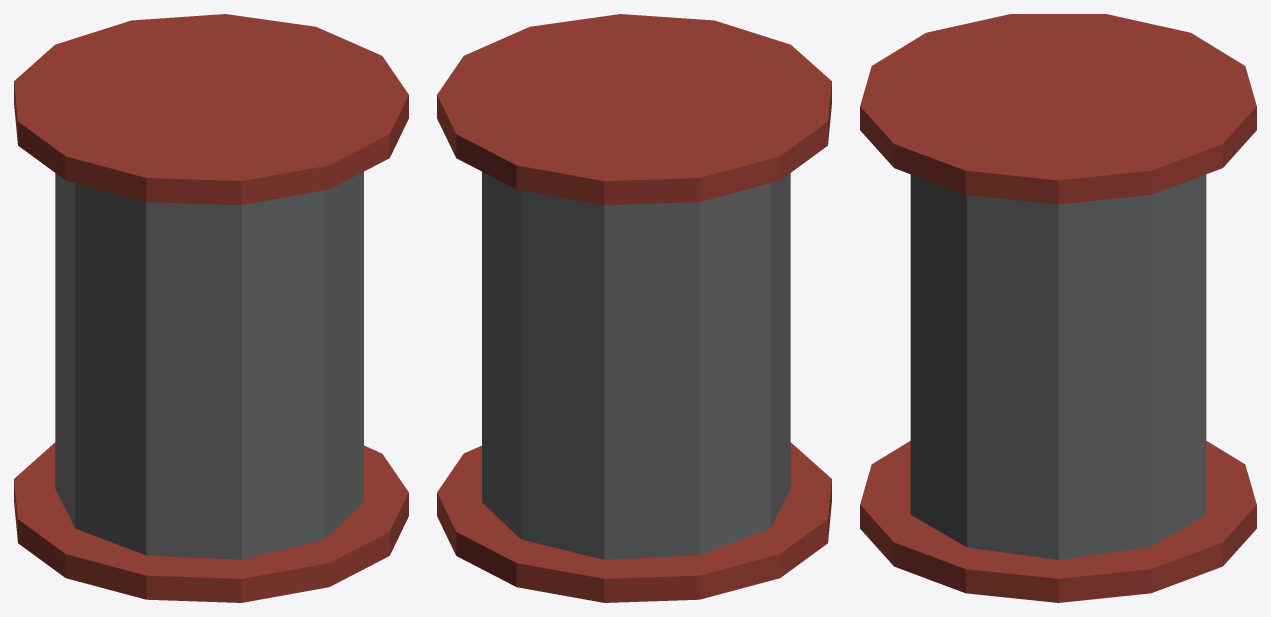
The model's file is solder-wire-spool.glb.
3 renders of one model, left to right at view 1: azimuth 30°, elevation 25°; view 2: azimuth 150°, elevation 25°; view 3: azimuth 270°, elevation 25°, orthographic.
Parts seen in each view (by area): view 1: metal, accent-warm; view 2: metal, accent-warm; view 3: metal, accent-warm.
Boxes of the visible parts, x1,y1,x2,y2 form: metal: [55, 172, 363, 559]; accent-warm: [14, 14, 408, 602]; metal: [482, 172, 790, 559]; accent-warm: [437, 14, 831, 602]; metal: [910, 174, 1206, 559]; accent-warm: [860, 14, 1256, 602].
Bounding box in the file's own units: 0.0887 × 0.105 × 0.0893.
